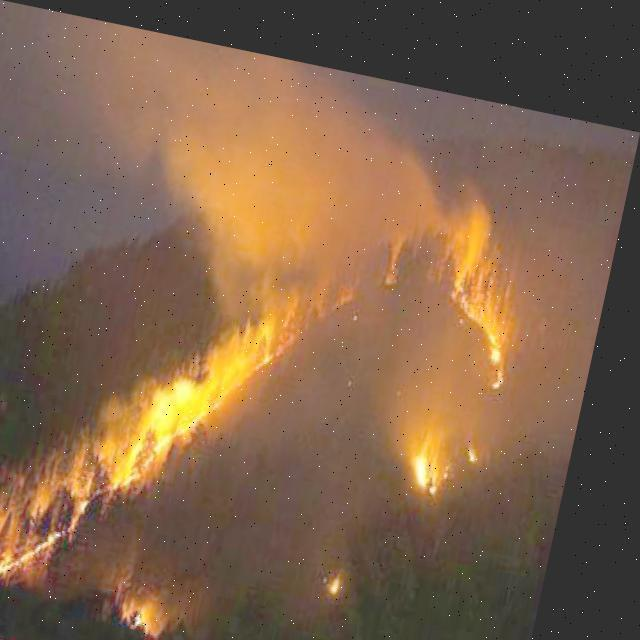Fire: (0, 133, 537, 639)
